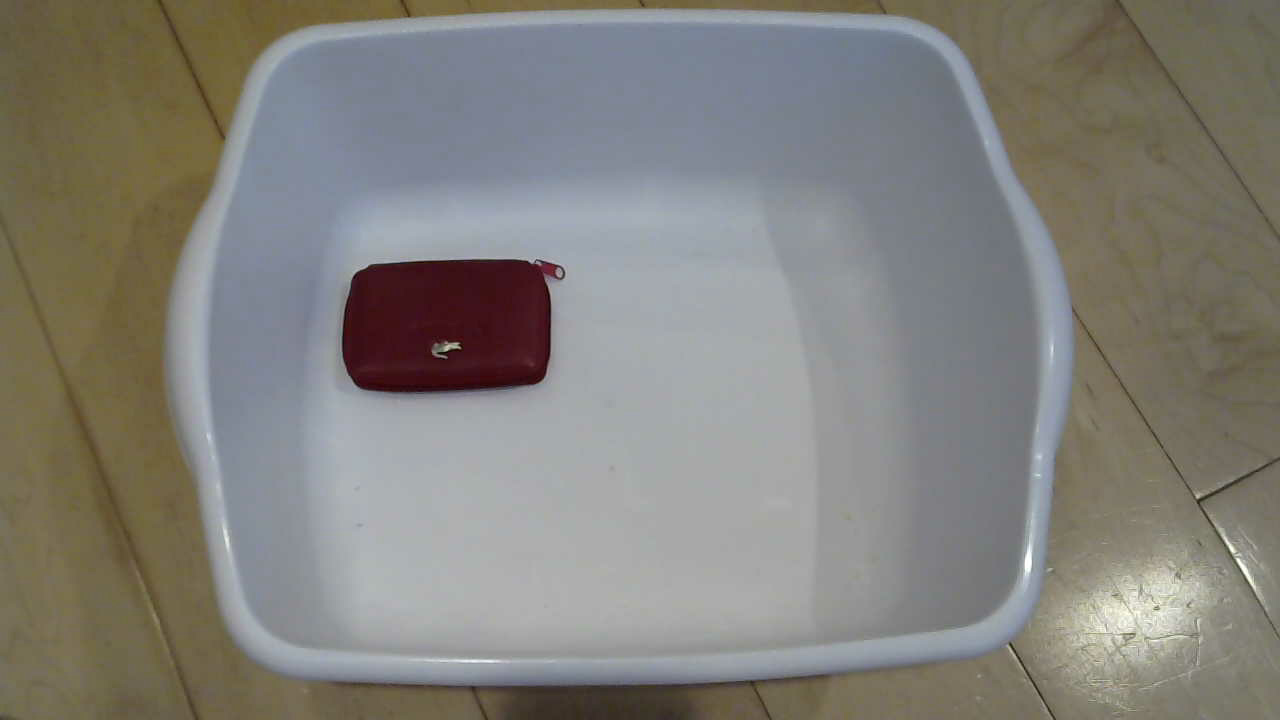wallet: (337, 254, 577, 409)
